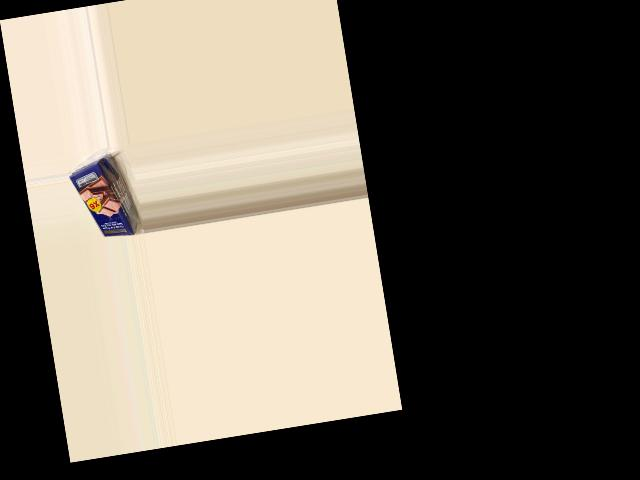chocolate: (66, 156, 139, 243)
